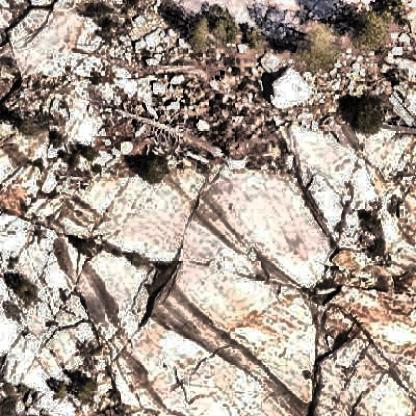tree-top: (284, 15, 348, 79), (338, 1, 399, 60), (345, 88, 390, 140), (133, 145, 176, 188), (187, 12, 216, 44), (213, 14, 245, 38)
